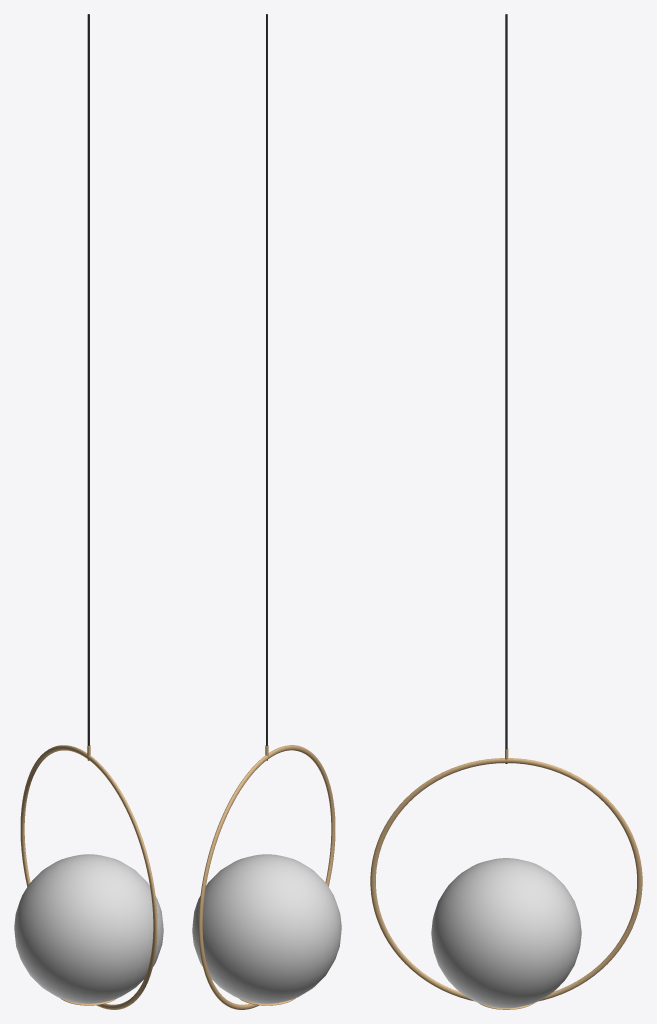
Rendered from light1.fbx.
The picture shows the model from 3 angles, left to right: view 1: azimuth 30°, elevation 25°; view 2: azimuth 150°, elevation 25°; view 3: azimuth 270°, elevation 25°; orthographic projection.
Visible parts, largest first — view 1: Sphere, Torus, Cylinder.001; view 2: Sphere, Torus, Cylinder.001; view 3: Sphere, Torus, Cylinder.001.
Boxes of the visible parts, x1,y1,x2,y2 form: Sphere: (14, 854, 163, 1003); Torus: (20, 745, 157, 1009); Cylinder.001: (87, 14, 89, 760); Sphere: (192, 854, 341, 1003); Torus: (198, 745, 335, 1009); Cylinder.001: (266, 14, 267, 760); Sphere: (431, 858, 581, 1008); Torus: (370, 748, 642, 1001); Cylinder.001: (505, 14, 507, 763).
Bounding box in the file's own units: 140 × 1016 × 253.
